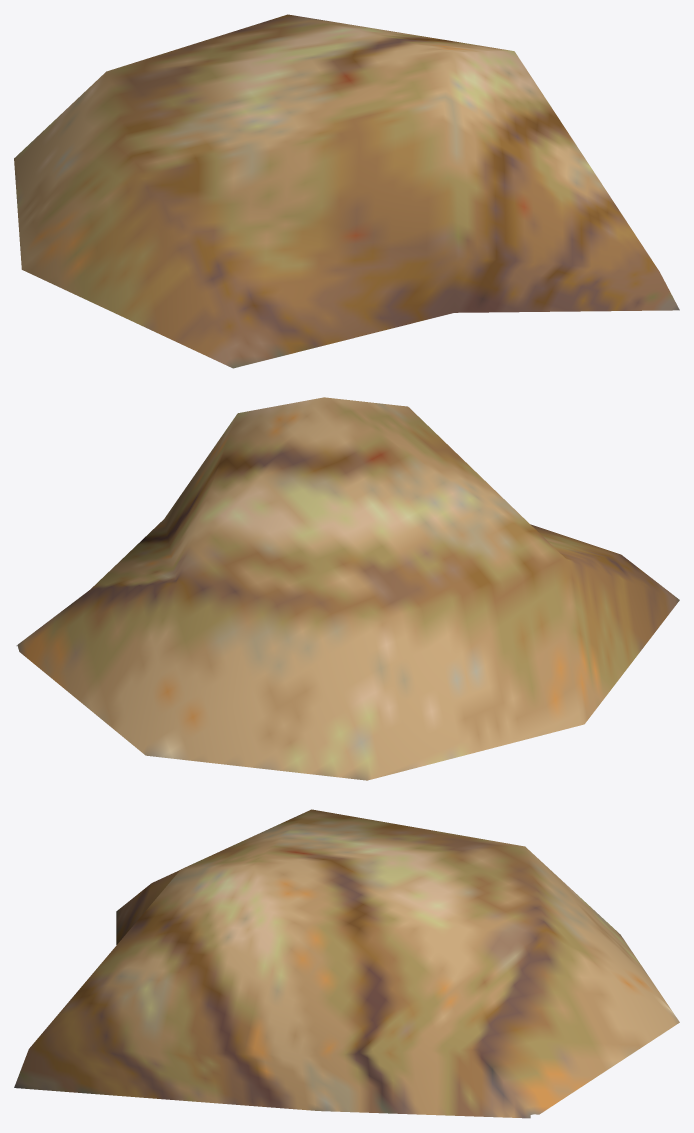
File: 5010_Item_hailuo_02.FBX
3 views of the same model, one above another, from view 1: azimuth 30°, elevation 25°; view 2: azimuth 150°, elevation 25°; view 3: azimuth 270°, elevation 25° (orthographic). The views are drawn at different scales.
Parts seen in each view (by area): view 1: 5010_Item_hailuo_02; view 2: 5010_Item_hailuo_02; view 3: 5010_Item_hailuo_02.
Part boxes in pixels (left/top/right/bottom): 5010_Item_hailuo_02: left=14, top=14, right=679, bottom=368; 5010_Item_hailuo_02: left=16, top=397, right=679, bottom=780; 5010_Item_hailuo_02: left=14, top=809, right=679, bottom=1118.
Size of the model in its own units: 30.04 by 10.63 by 35.91.
